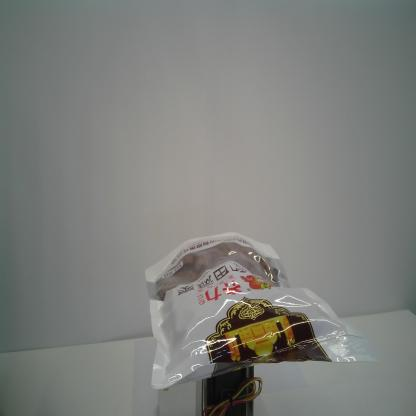Dried Food: (142, 231, 384, 392)
